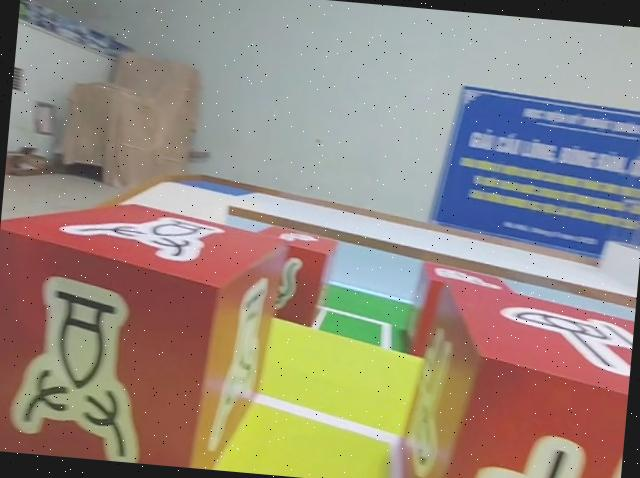R2 Real: (0, 185, 294, 474), (394, 273, 636, 478), (239, 217, 344, 332)
